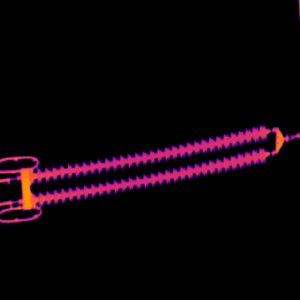insulator: (23, 123, 282, 206)
